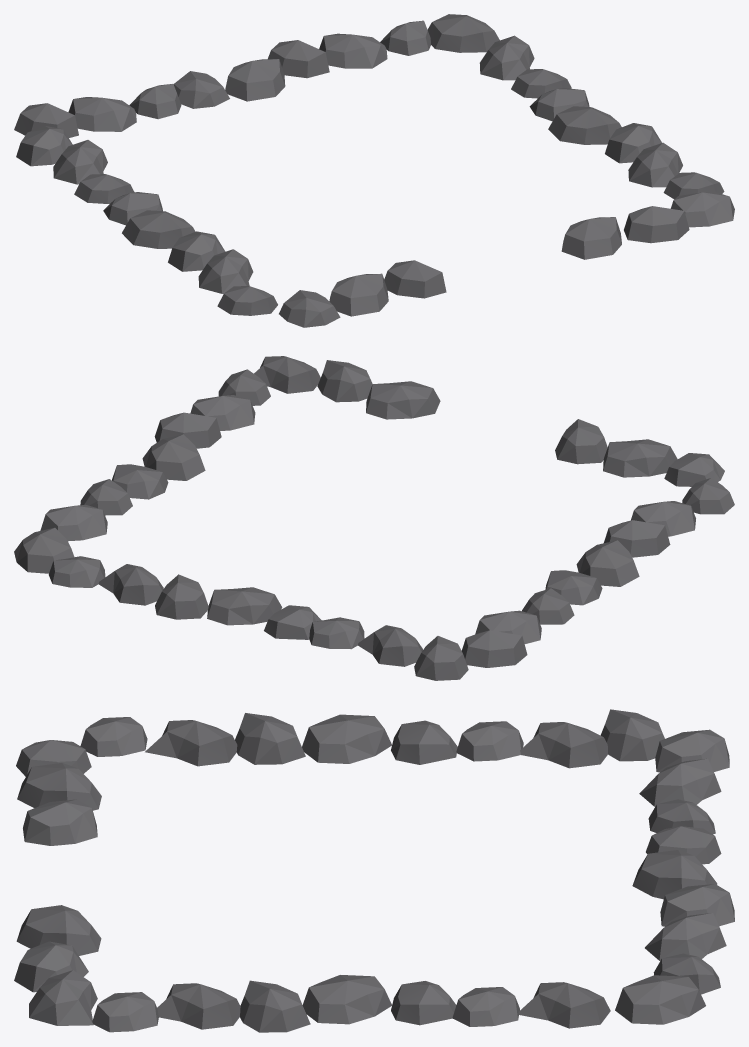
Rendered from Piedras_01.glb.
The picture shows the model from 3 angles, top to bottom: view 1: azimuth 30°, elevation 25°; view 2: azimuth 150°, elevation 25°; view 3: azimuth 270°, elevation 25°; orthographic projection. The views are drawn at different scales.
Parts seen in each view (by area): view 1: SM_Env_House_Rocks_Small_01; view 2: SM_Env_House_Rocks_Small_01; view 3: SM_Env_House_Rocks_Small_01.
Part boxes in pixels (x1,y1,x2,y2): SM_Env_House_Rocks_Small_01: (14, 14, 734, 327); SM_Env_House_Rocks_Small_01: (14, 356, 734, 680); SM_Env_House_Rocks_Small_01: (14, 709, 734, 1032).
Size of the model in its own units: 5.79 by 0.2665 by 5.79.
Materials: 1 (1 with a texture image).
